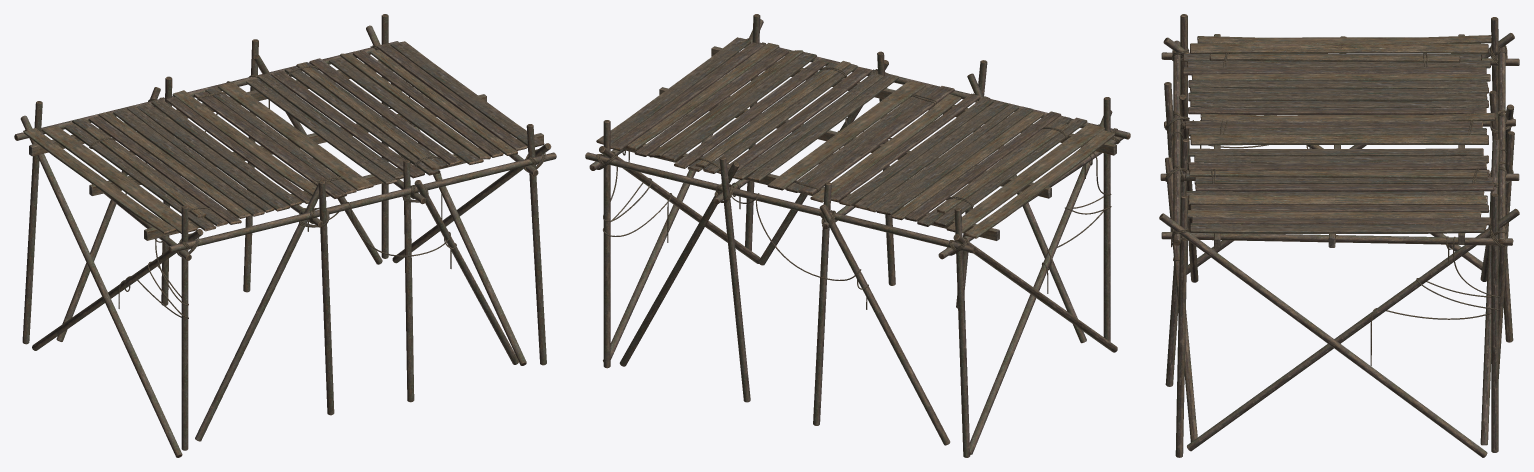
The model's file is SM_Construction_v1_8x11_01.fbx.
3 views of the same model, side by side, from view 1: azimuth 30°, elevation 25°; view 2: azimuth 150°, elevation 25°; view 3: azimuth 270°, elevation 25° (orthographic). The views are drawn at different scales.
Parts seen in each view (by area): view 1: SM_Construction_v1_8x11_01_LOD0; view 2: SM_Construction_v1_8x11_01_LOD0; view 3: SM_Construction_v1_8x11_01_LOD0.
Part boxes in pixels (x1,y1,x2,y2): SM_Construction_v1_8x11_01_LOD0: [14, 14, 556, 457]; SM_Construction_v1_8x11_01_LOD0: [585, 14, 1130, 457]; SM_Construction_v1_8x11_01_LOD0: [1159, 14, 1519, 457].
Bounding box in the file's own units: 1120 × 829 × 671.
Materials: 1 (1 with a texture image).
